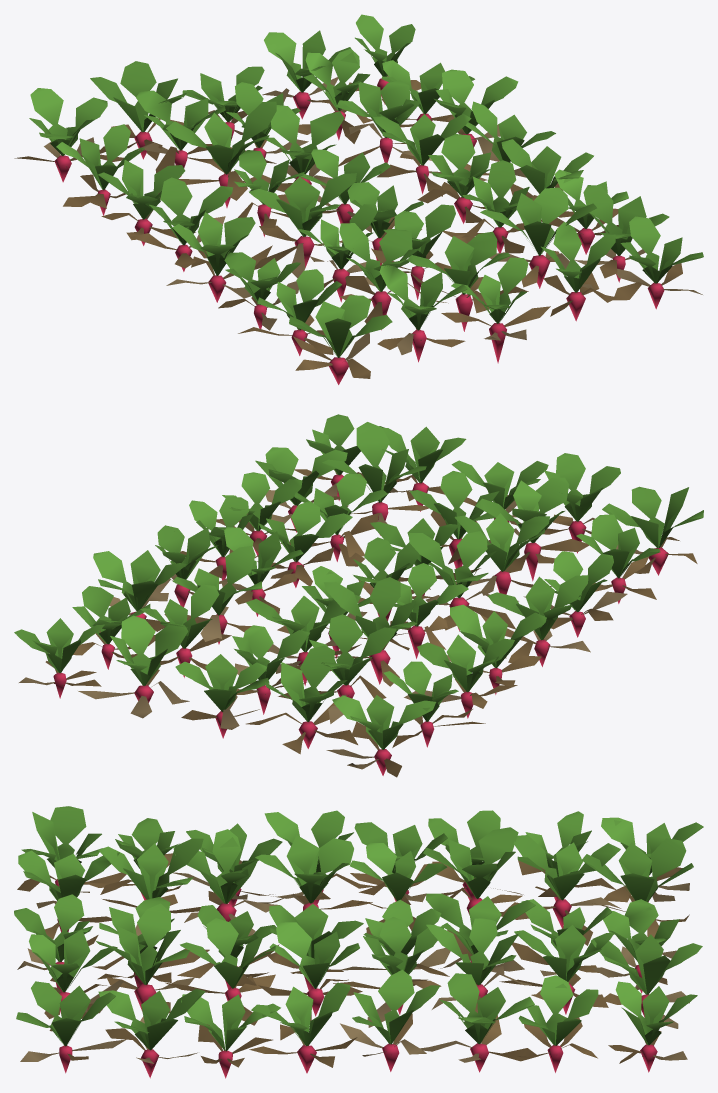
Rendered from crop_radish.glb.
3 renders of one model, top to bottom at view 1: azimuth 30°, elevation 25°; view 2: azimuth 150°, elevation 25°; view 3: azimuth 270°, elevation 25°, orthographic. The views are drawn at different scales.
Parts seen in each view (by area): view 1: plants_mesh, plants_dead_mesh; view 2: plants_mesh, plants_dead_mesh; view 3: plants_mesh, plants_dead_mesh.
Boxes of the visible parts, <box> form: plants_mesh: <box>29,14,703,384</box>; plants_dead_mesh: <box>14,75,702,378</box>; plants_mesh: <box>14,414,703,775</box>; plants_dead_mesh: <box>19,469,697,777</box>; plants_mesh: <box>14,806,703,1078</box>; plants_dead_mesh: <box>17,853,689,1067</box>.
Bounding box in the file's own units: 1.38 × 0.377 × 1.83.
